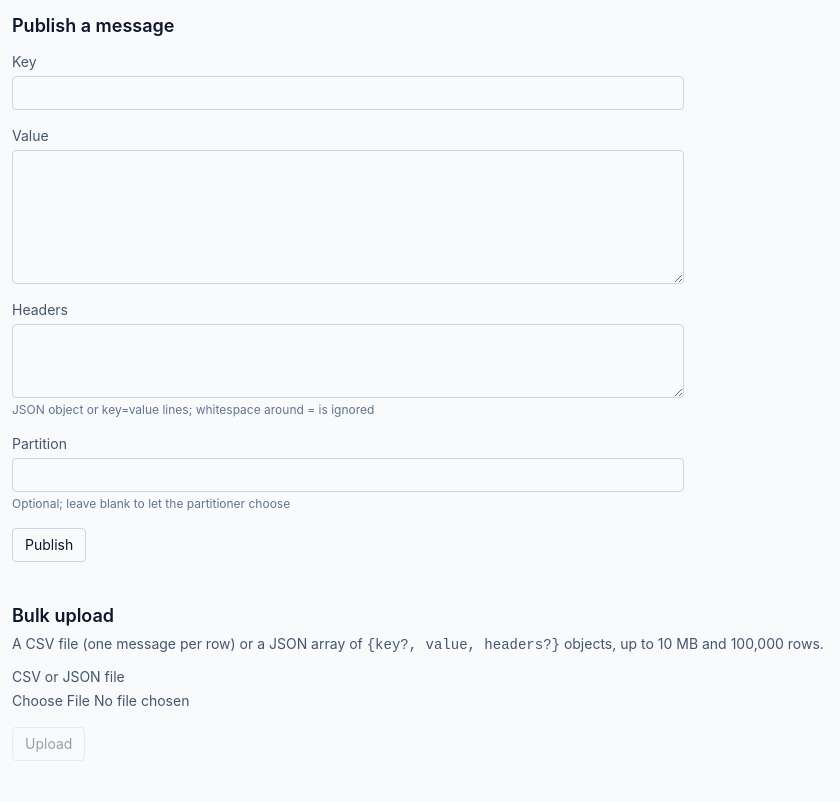
single publish › rejects a partition that is not a whole number before sending
Type "v" into the text box labelled "Value".
click(348, 217); type("v")  # box [12,150,684,284]
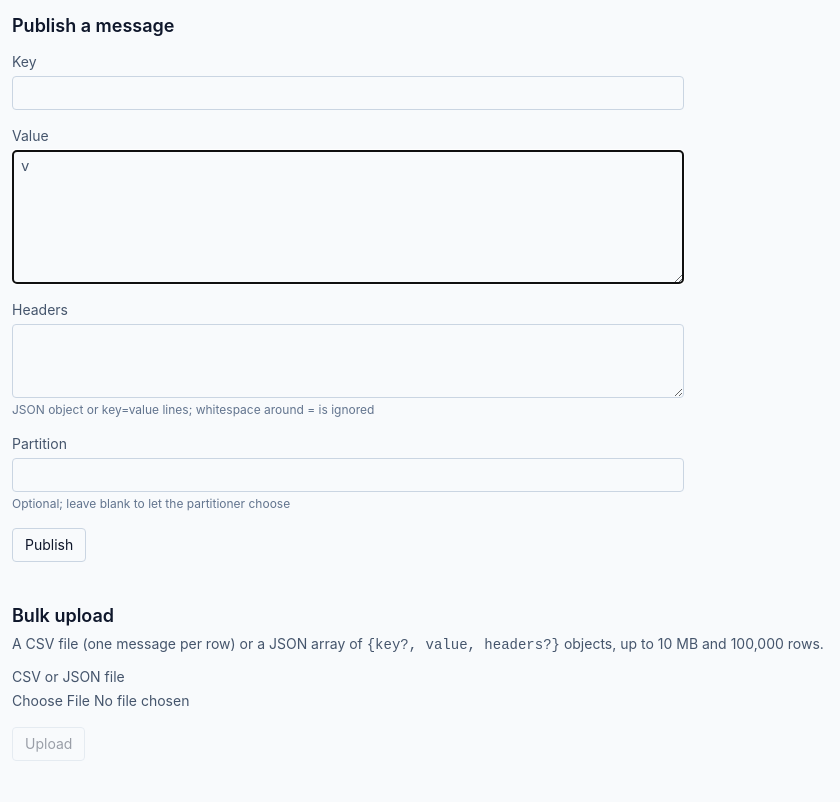
Type "1.5" into the field labelled "Partition".
click(348, 475); type("1.5")  # box [12,458,684,492]
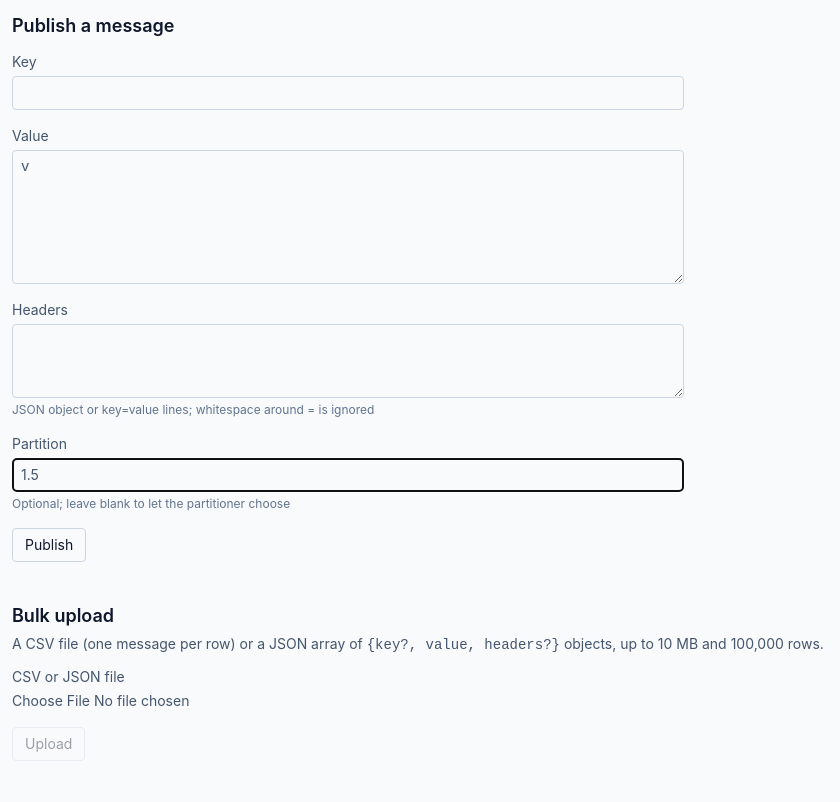
Click the button "Publish".
click(49, 545)  # box [12,528,86,562]
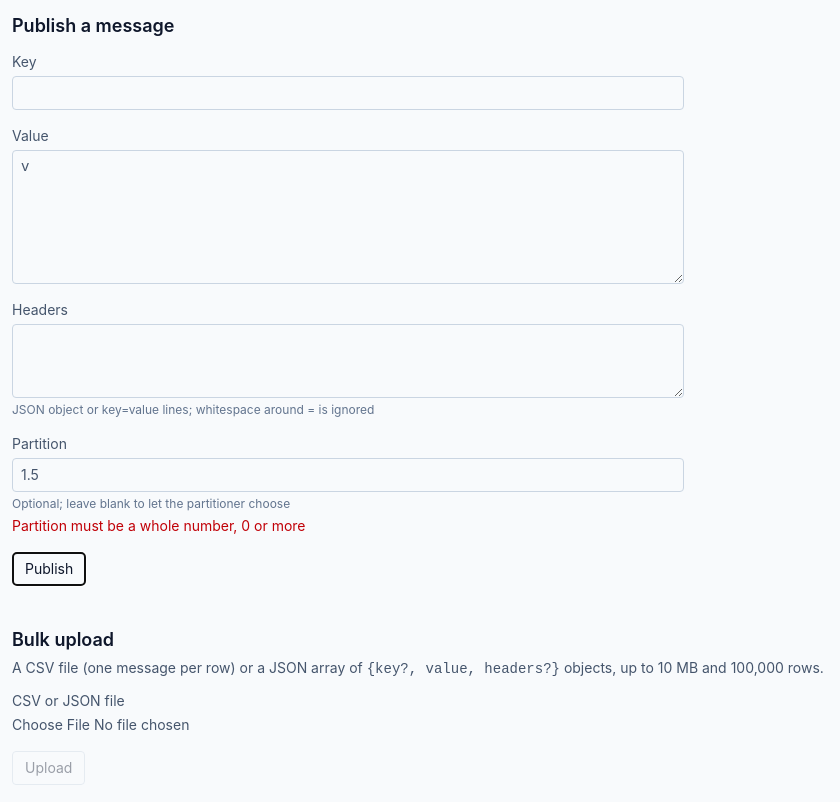
Check: the text "Partition must be a whole number, 0 or more" is shown, box [12,517,306,534]
